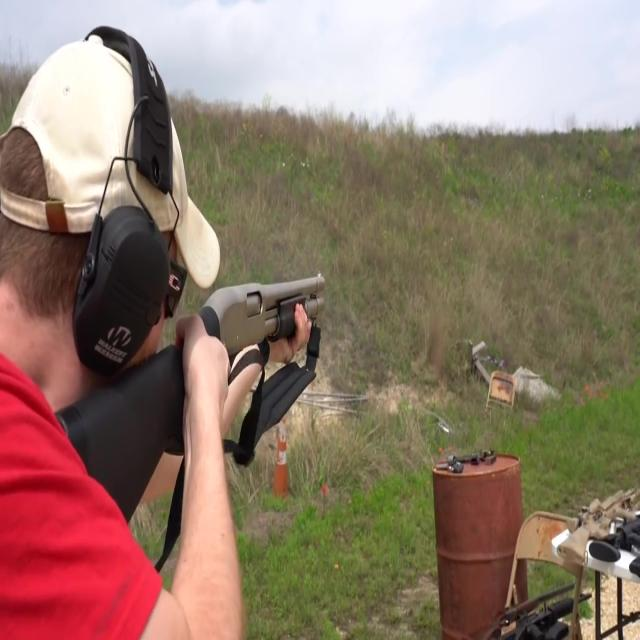Weapon: (33, 268, 353, 519), (450, 576, 640, 640), (550, 489, 640, 578), (418, 443, 514, 492)
